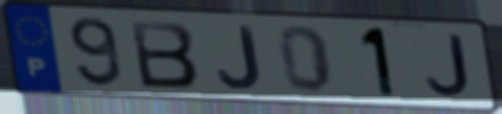0: (275, 22, 337, 97)
1: (354, 24, 399, 102)
9: (66, 15, 124, 89)
B: (126, 18, 202, 90)
J: (423, 33, 475, 100), (214, 24, 264, 92)
